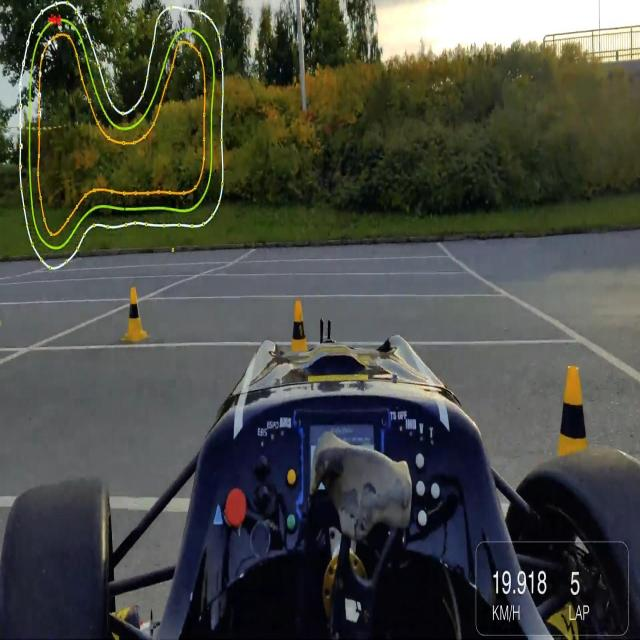yellow_cone: (550, 366, 596, 510), (284, 301, 316, 389), (123, 286, 147, 345)
